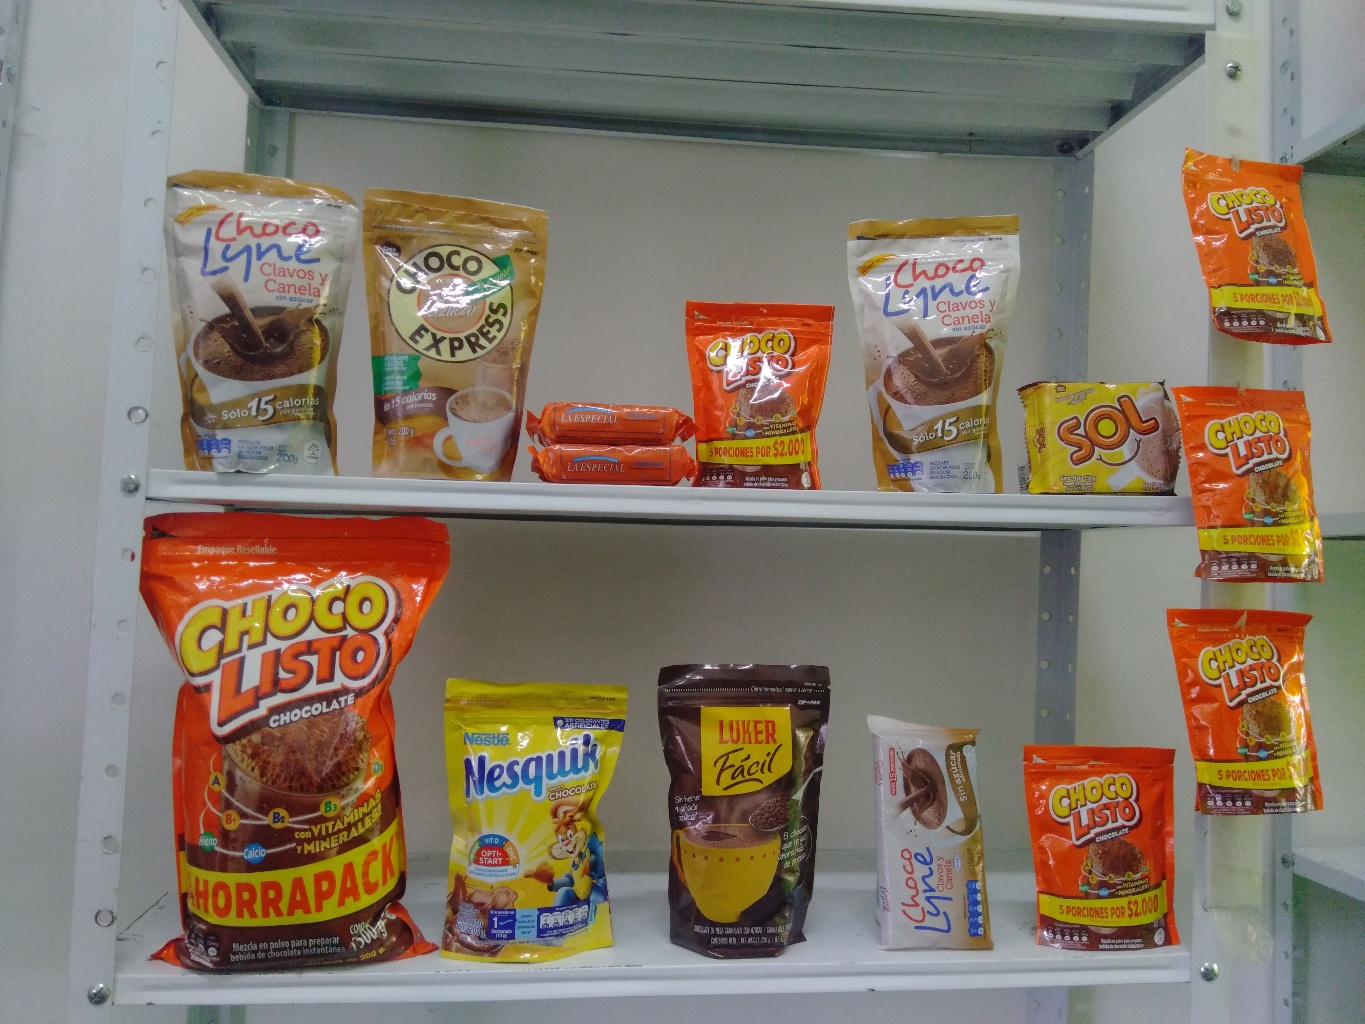COL0170303DYP20000: (428, 672, 637, 967)
